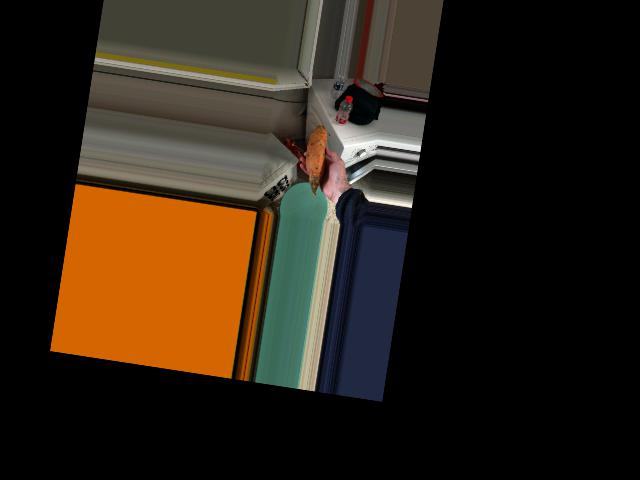sweet_potato: (303, 118, 335, 182)
